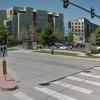Crosswalk: (33, 60, 100, 100)
